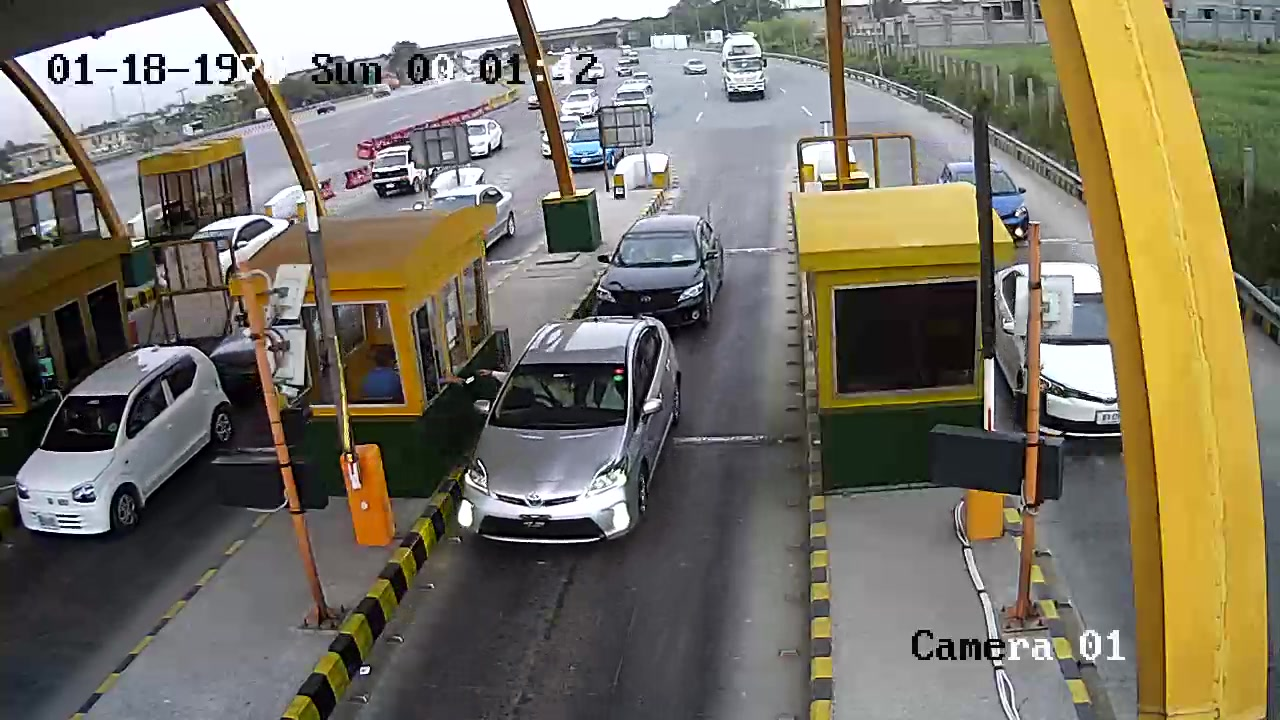F1: (447, 314, 688, 596)
